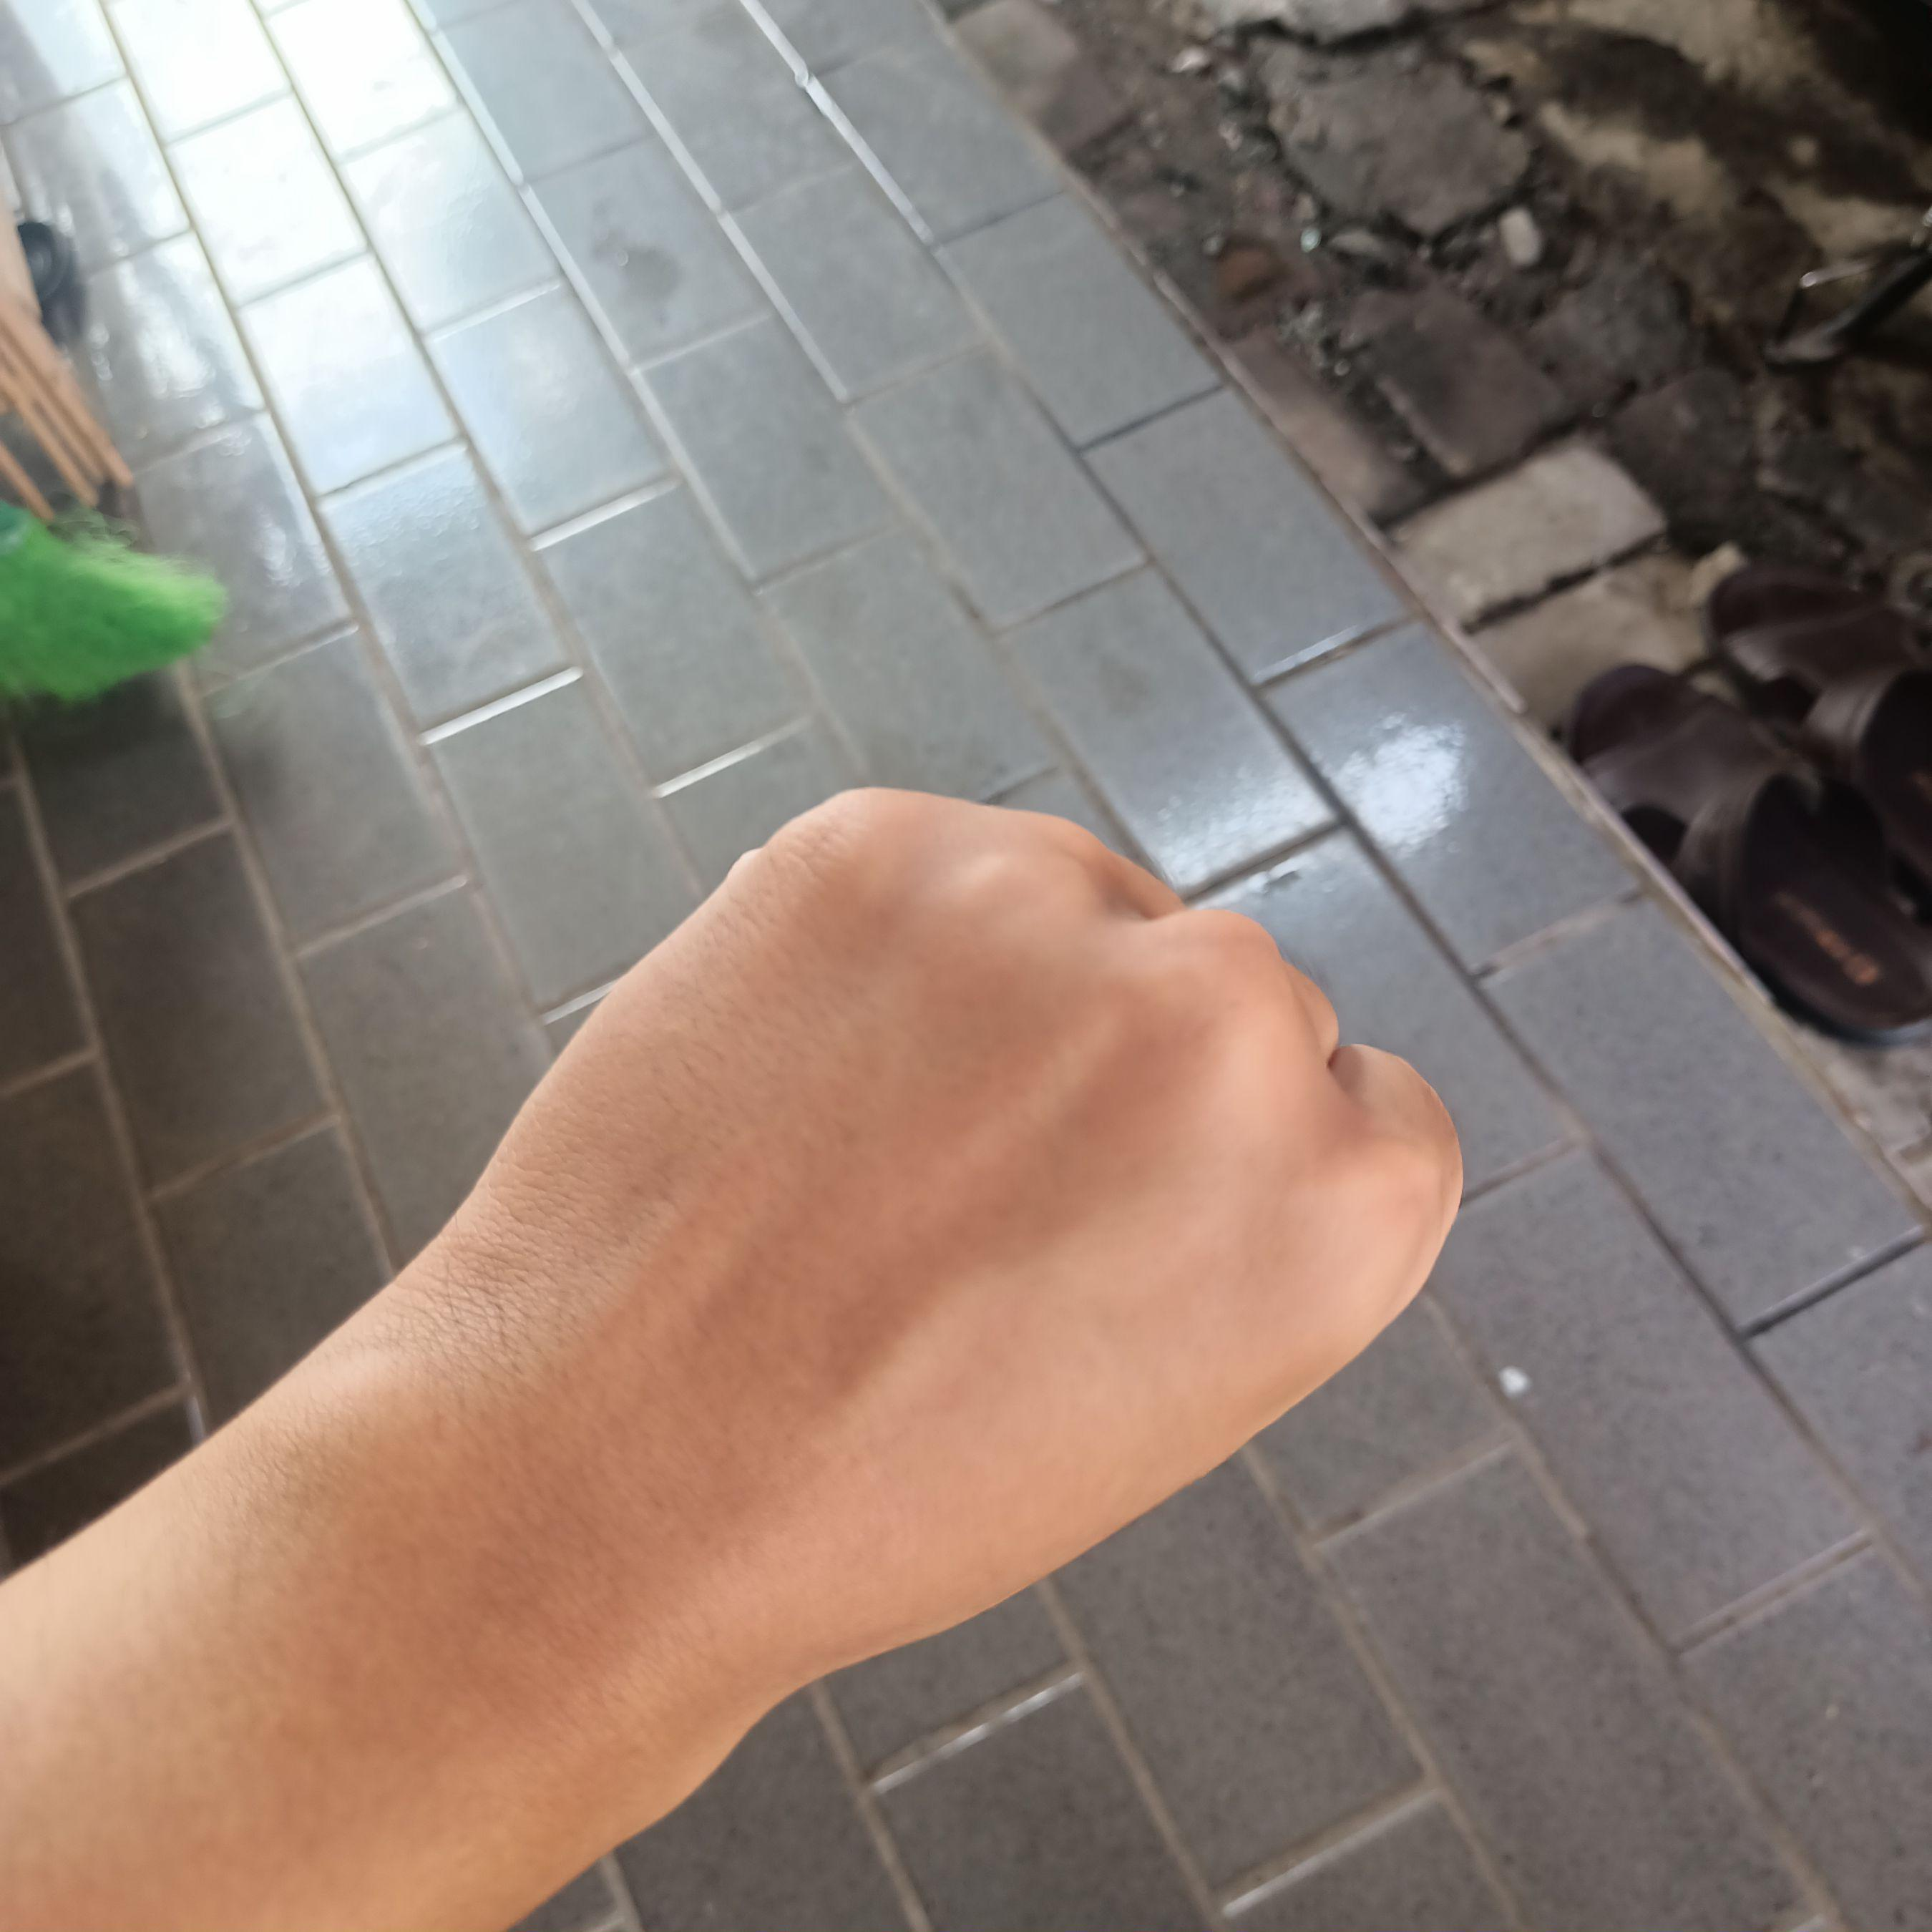rock: (340, 755, 1493, 1760)
